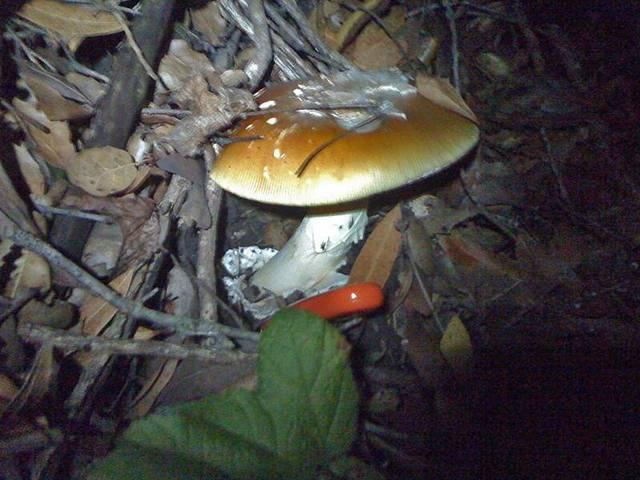Edible Mushroom: (207, 68, 480, 300)
